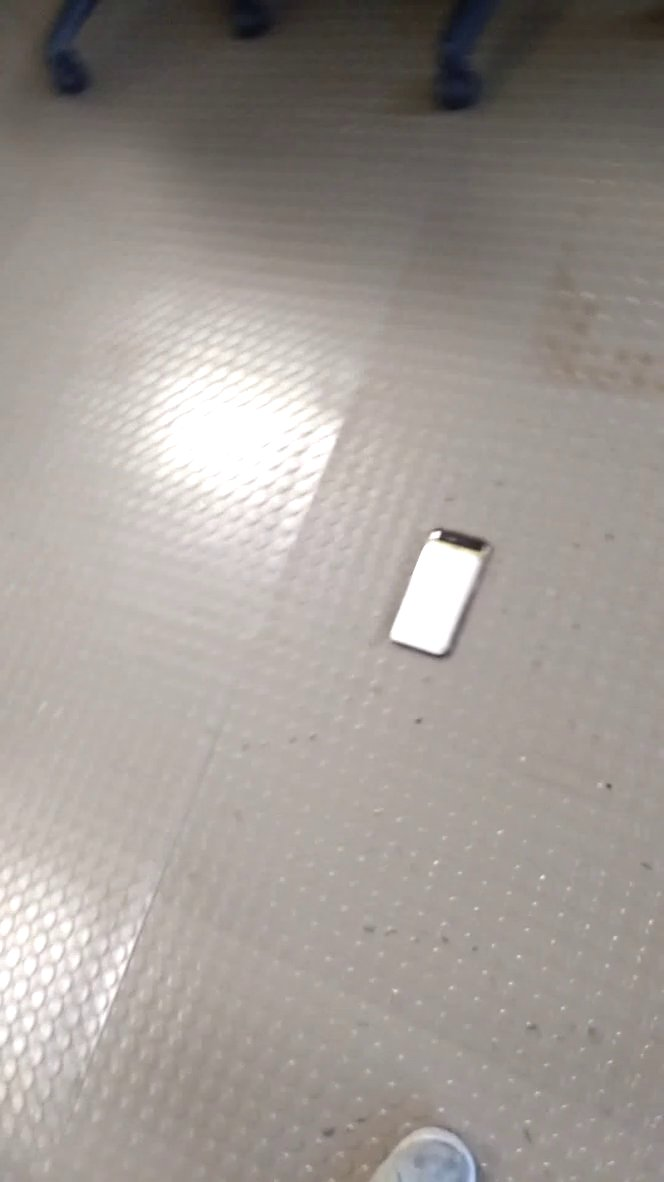phone: (381, 519, 503, 667)
